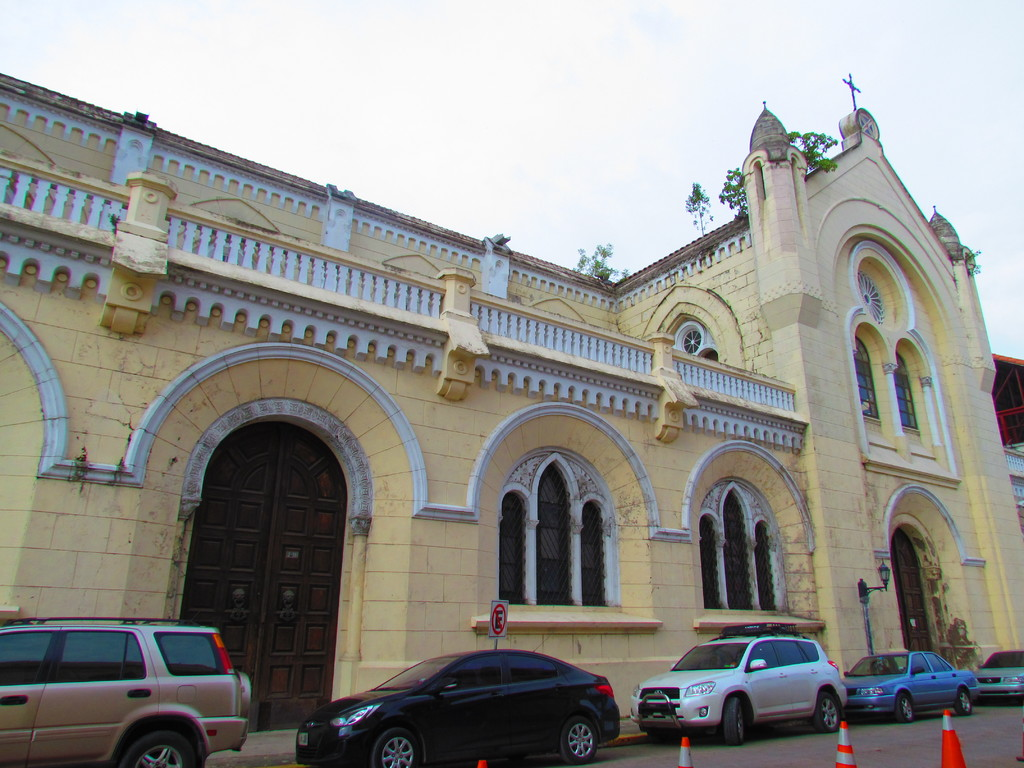Car: (293, 643, 622, 767), (0, 617, 253, 767), (629, 621, 848, 744), (842, 649, 979, 721), (976, 645, 1023, 700)
